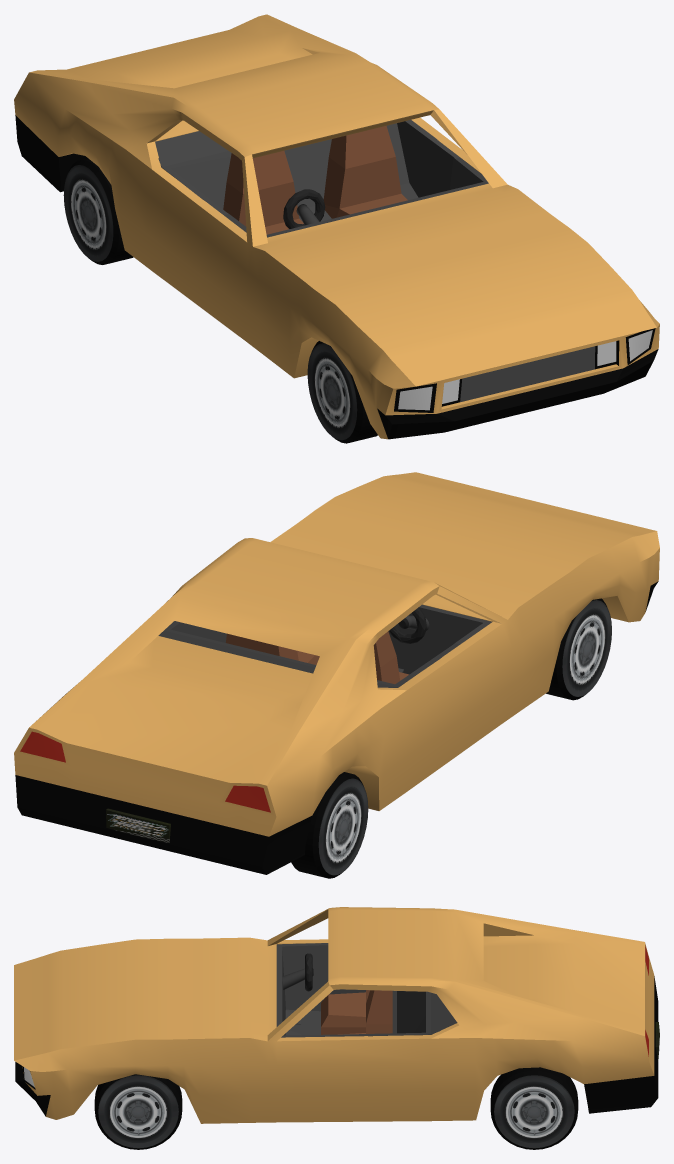
File: MUSTANG.fbx
3 renders of one model, top to bottom at view 1: azimuth 30°, elevation 25°; view 2: azimuth 150°, elevation 25°; view 3: azimuth 270°, elevation 25°, orthographic. The views are drawn at different scales.
Parts seen in each view (by area): view 1: Mustang, back_right.009, front_right.009, steeringwheel.009; view 2: Mustang, back_right.009, front_right.009, steeringwheel.009; view 3: Mustang, back_left.009, front_left.009.
Boxes of the visible parts, x1,y1,x2,y2 form: Mustang: [14, 14, 659, 439]; back_right.009: [63, 158, 133, 264]; front_right.009: [307, 341, 377, 443]; steeringwheel.009: [283, 189, 325, 228]; Mustang: [14, 472, 659, 874]; back_right.009: [291, 772, 368, 878]; front_right.009: [546, 598, 611, 700]; steeringwheel.009: [389, 607, 426, 643]; Mustang: [14, 907, 659, 1123]; back_left.009: [490, 1067, 578, 1149]; front_left.009: [94, 1074, 182, 1149].
Bounding box in the file's own units: 328 × 130 × 88.31.
